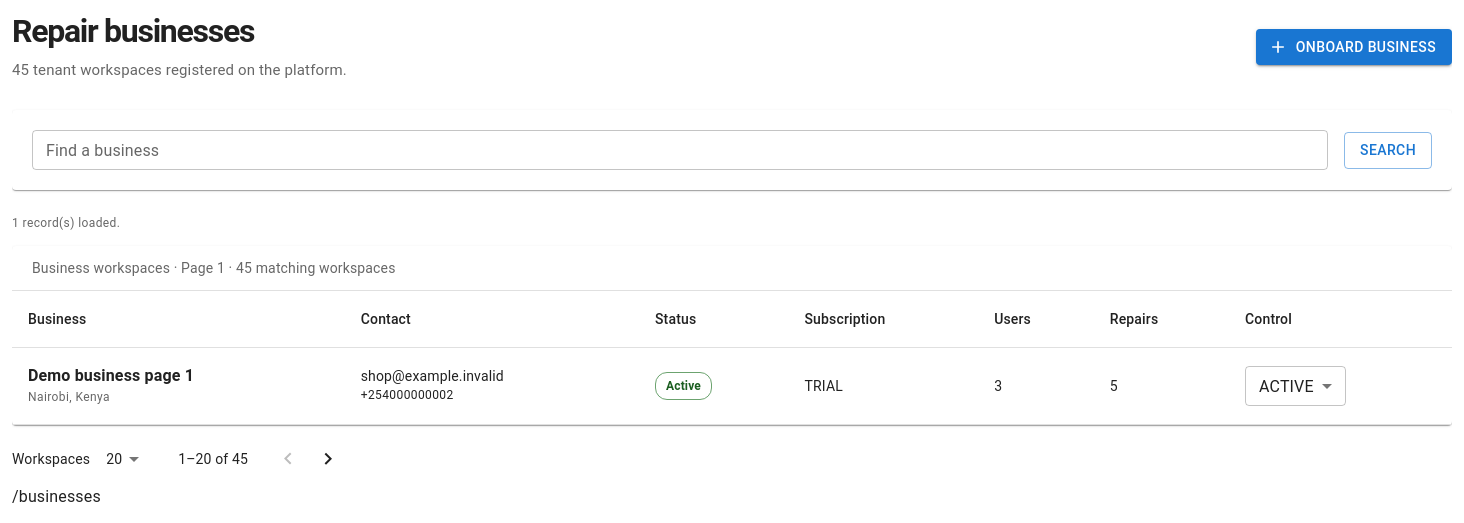
Scenario: permission-accurate operational directories › surfaces genuine business server pagination rather than paging an incomplete local list
This screenshot has width=1464, height=523.
Expected: the text "Demo business page 1" is shown, [28, 366, 194, 385]
Expected: the text "45 tenant workspaces registered on the platform." is shown, [12, 58, 347, 82]
Click the button named "Go to next page" at (328, 459), box [308, 439, 348, 479]
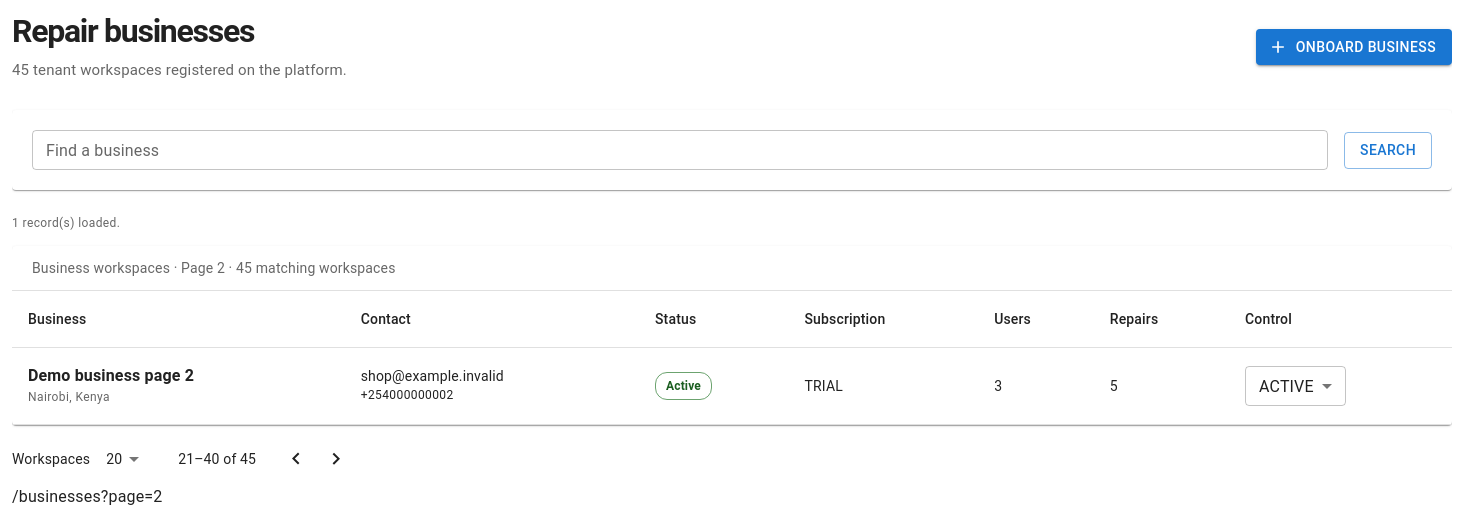
Now the text "Demo business page 2" is shown, box [28, 366, 194, 385]
Now the text with test id "current-path" reads "/businesses?page=2", box [12, 487, 162, 506]
